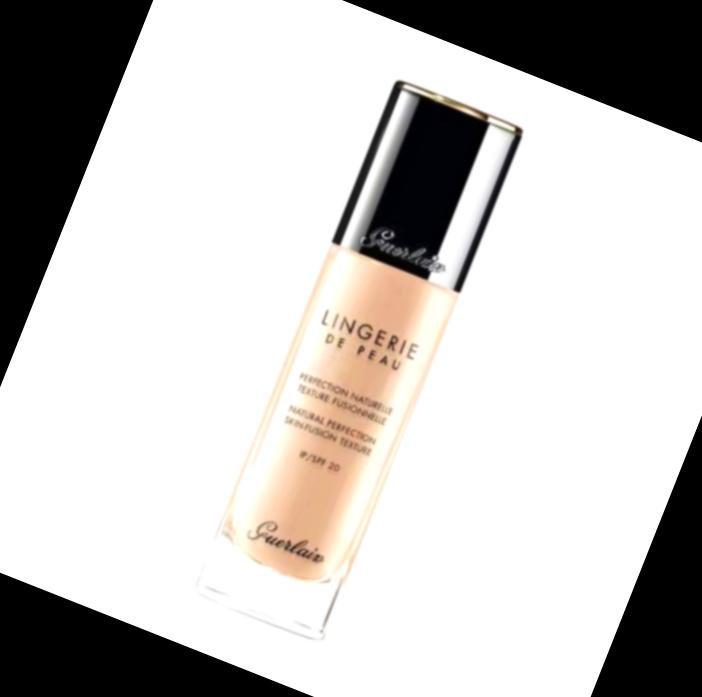cosmetic: (193, 75, 529, 643)
